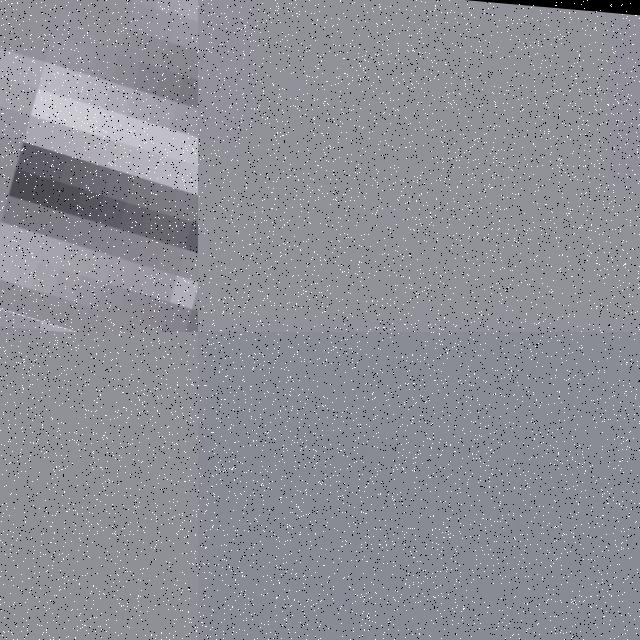drone: (0, 0, 198, 332)
